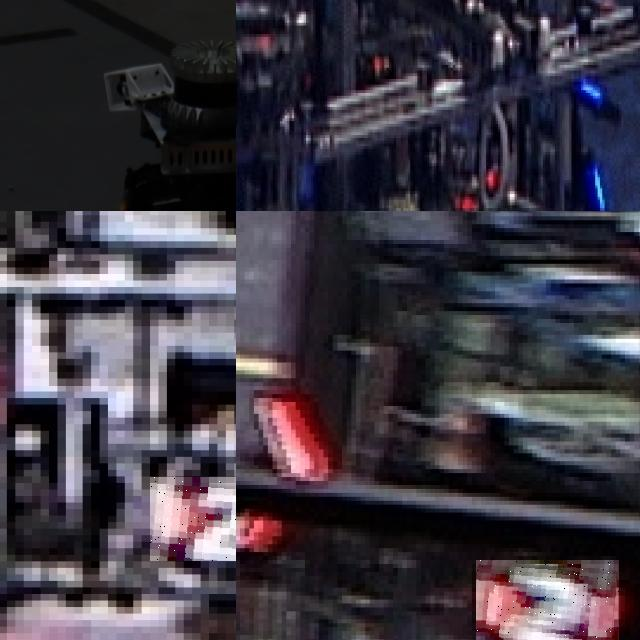R2: (476, 560, 620, 640), (150, 476, 236, 561)
